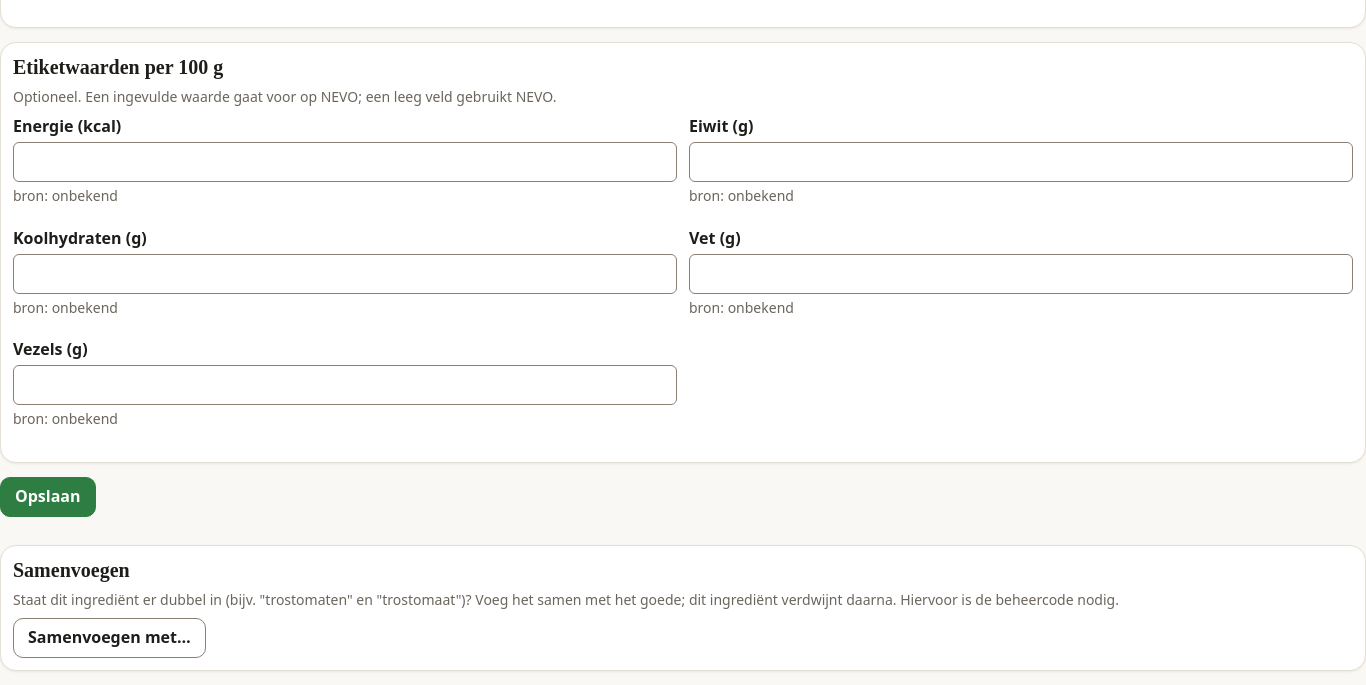
Test: IngredientEditView: samenvoegen › zonder beheercode: het venster vraagt de code; daarna naar het doel met een melding
The width and height of the screenshot is (1366, 685).
(page scrolled)
Click the button with class "start-merge" at [109, 638], box [13,618,206,658]
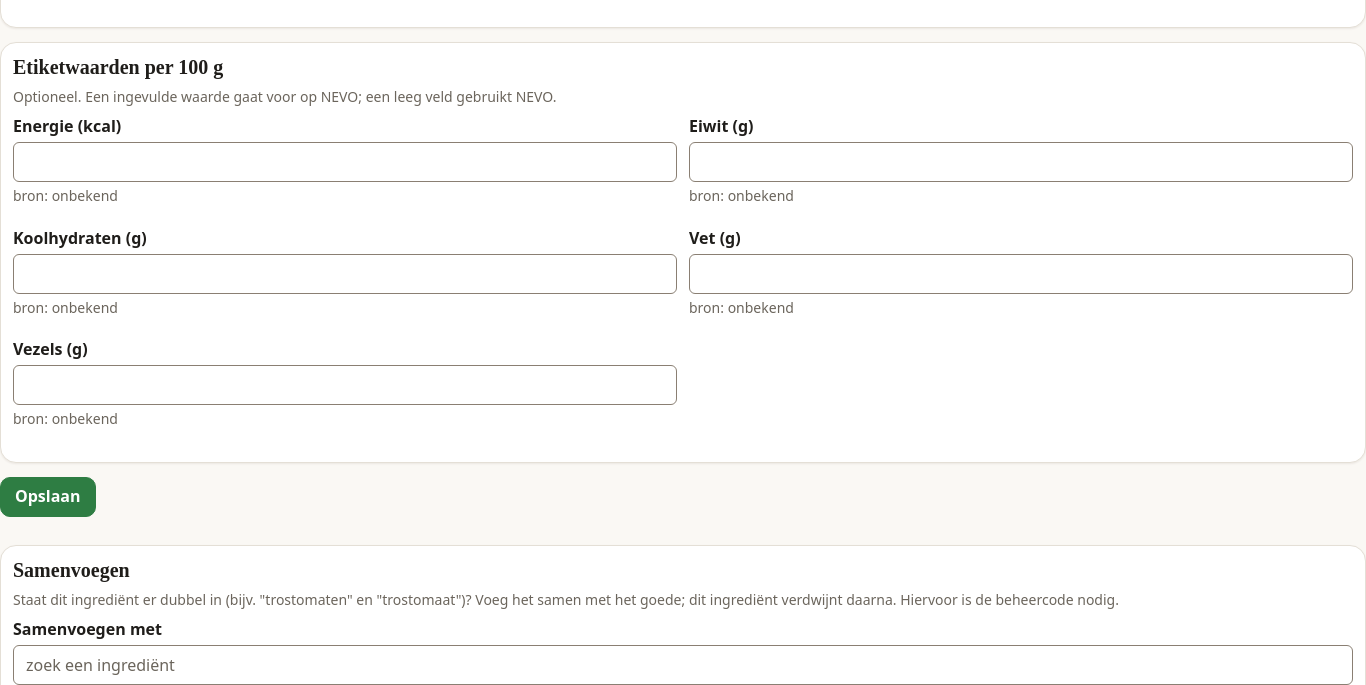
Type "ei" into the search field with id "merge-search" at [683, 665], box [13,645,1353,684]
(page scrolled)
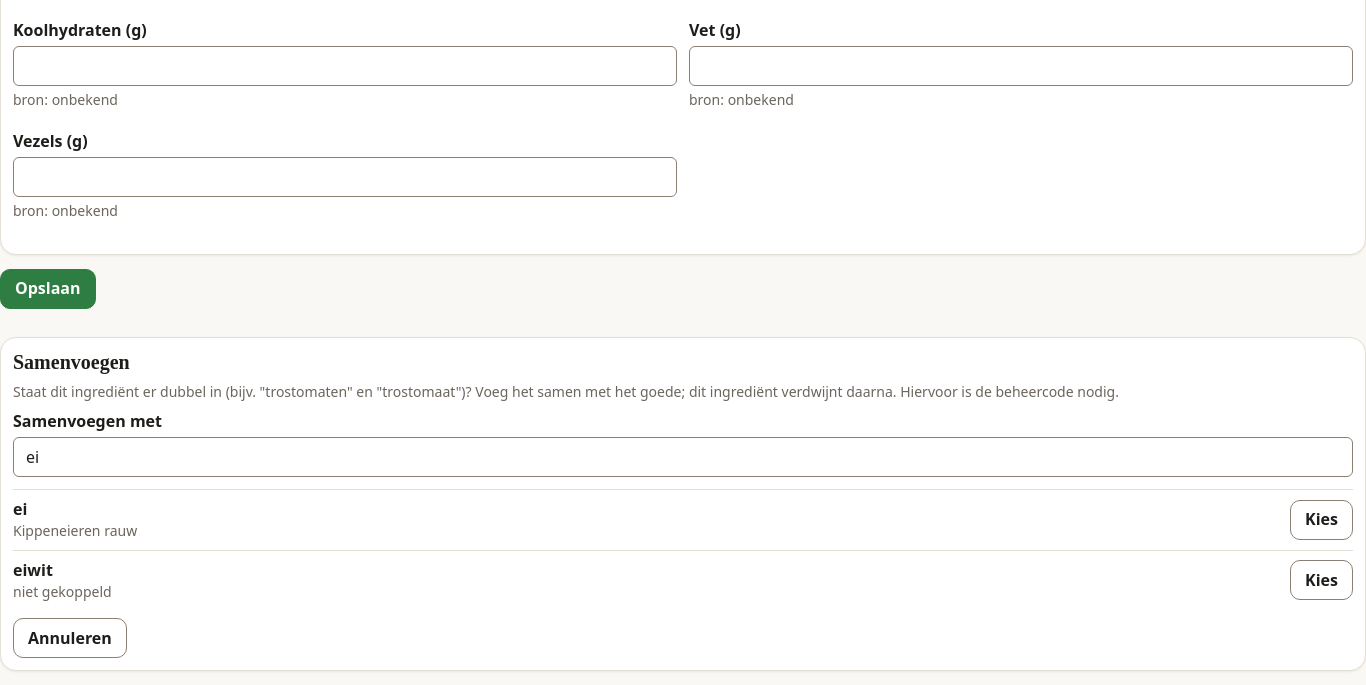
Click the button "Kies" in the row of "Kippeneieren rauw" at [1322, 520], box [1290,500,1353,540]
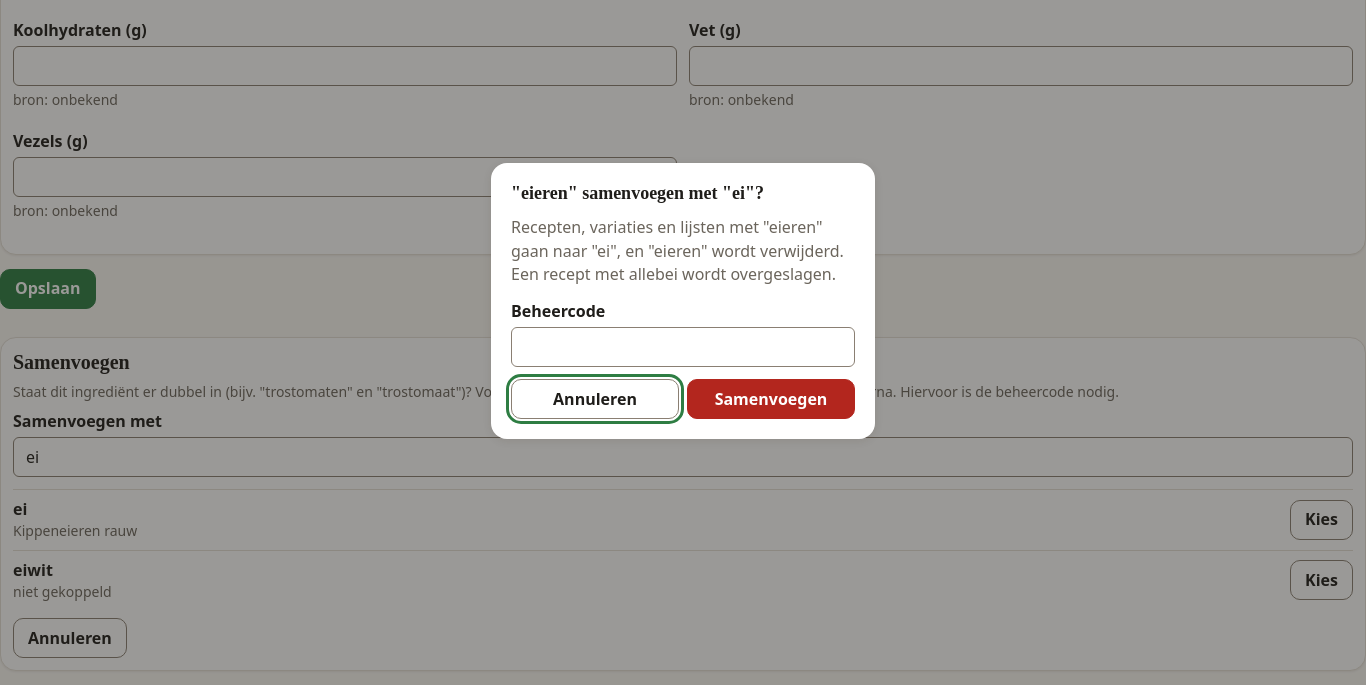
expect the heading "\"eieren\" samenvoegen met \"ei\"?" reads "\"eieren\" samenvoegen met \"ei\"?": met, box [511,183,764,203]
expect the password field labelled "Beheercode" is shown: met
Type "geheim" into the password field labelled "Beheercode" at [683, 347], box [511,327,855,367]
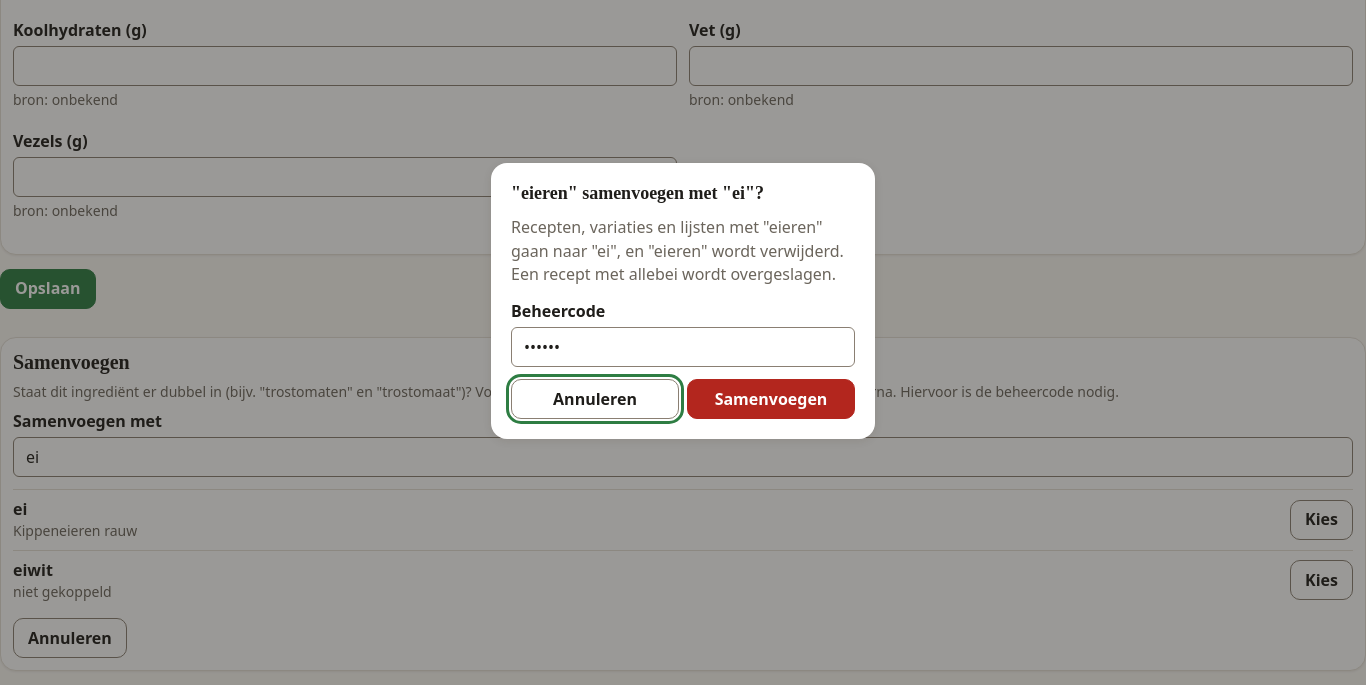
Click the button with class "confirm" at [771, 399], box [687,379,855,419]
(page scrolled)
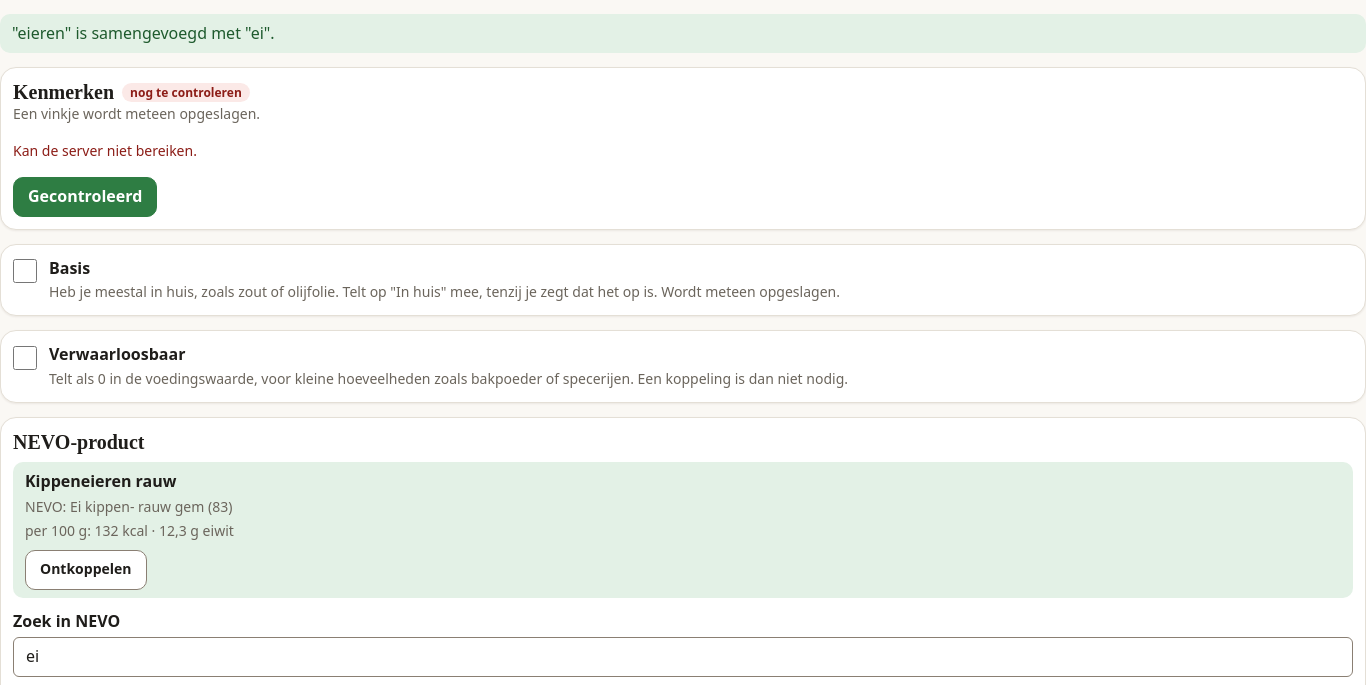
expect the message with class "notice-success" reads "\"eieren\" is samengevoegd met \"ei\".": met, box [12,22,275,44]
